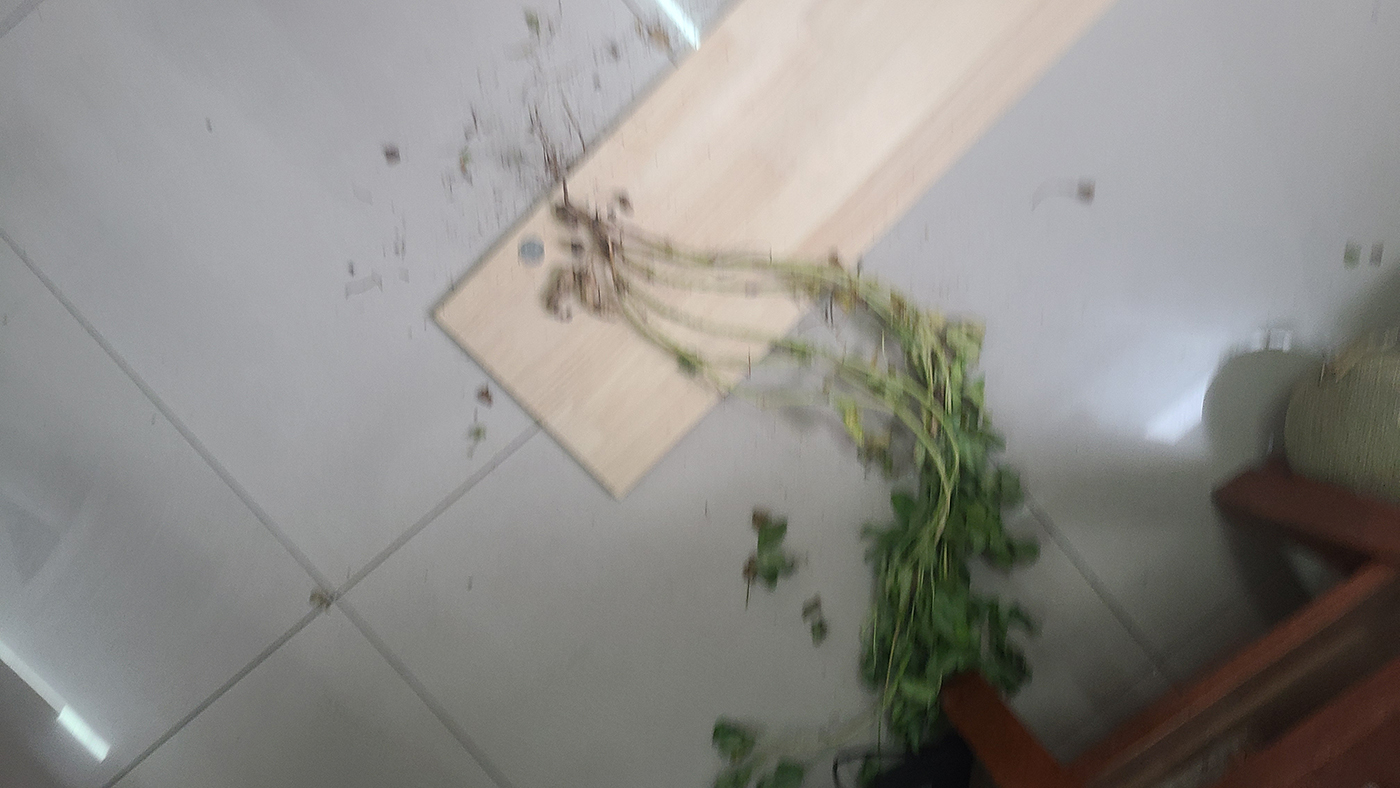l: (557, 207, 577, 227), (571, 244, 584, 254), (620, 196, 629, 208), (607, 213, 616, 220)
